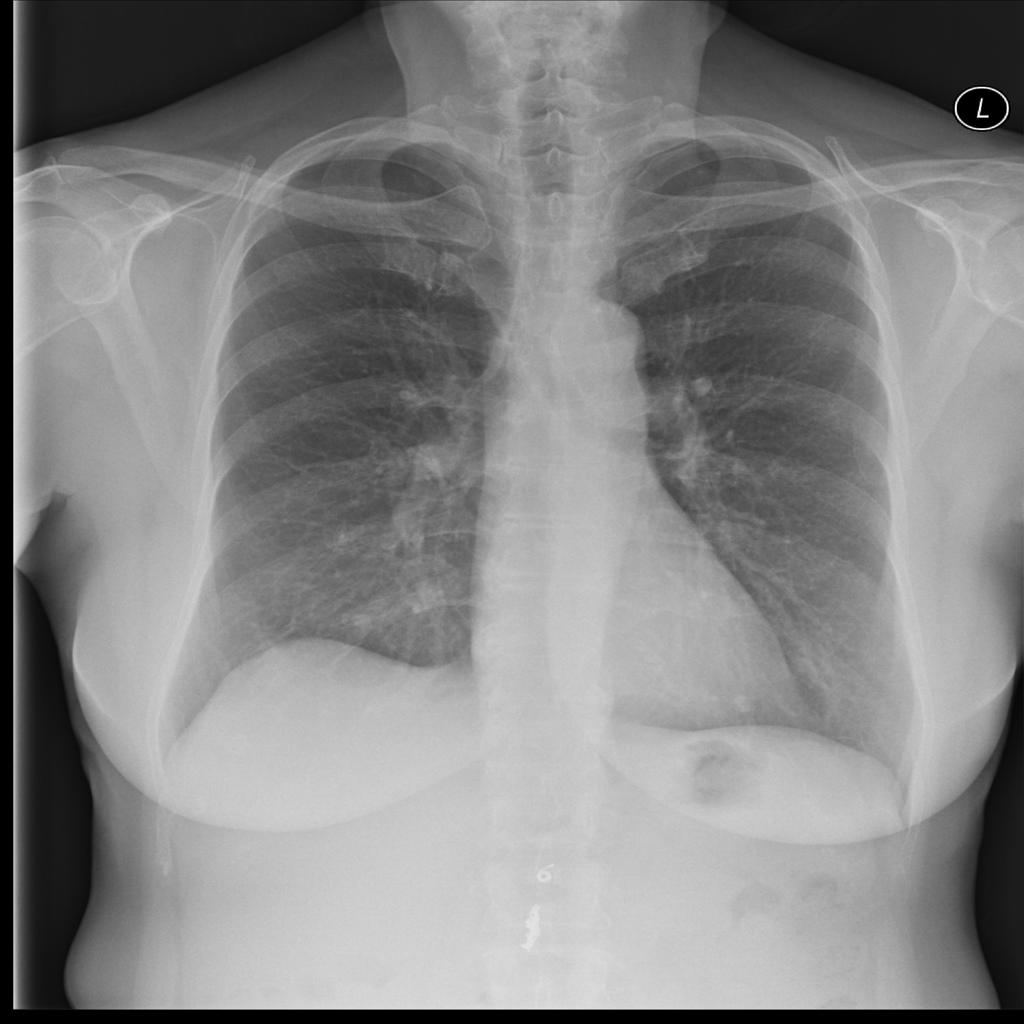nodule: (330, 595, 383, 642), (714, 678, 767, 724)
